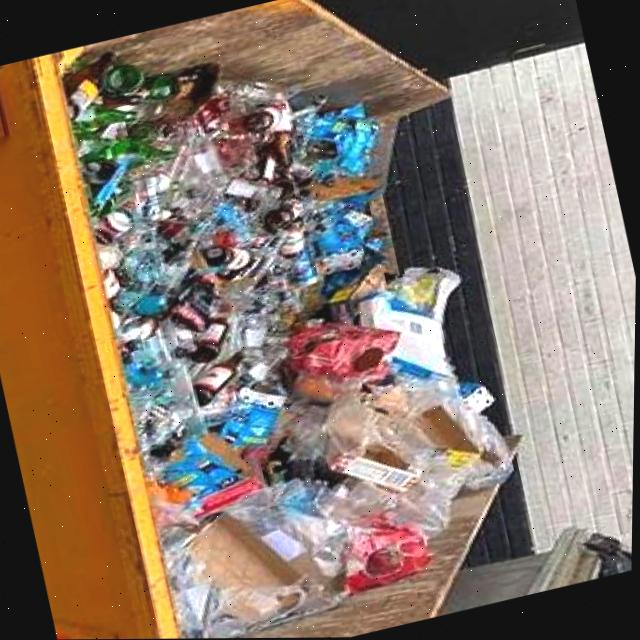Garbage: (62, 52, 514, 639)
Glass_bottle: (194, 353, 242, 406), (189, 324, 226, 362), (203, 248, 249, 272)
Plastic_Bag: (323, 452, 469, 538), (226, 484, 348, 577), (287, 322, 401, 382)
